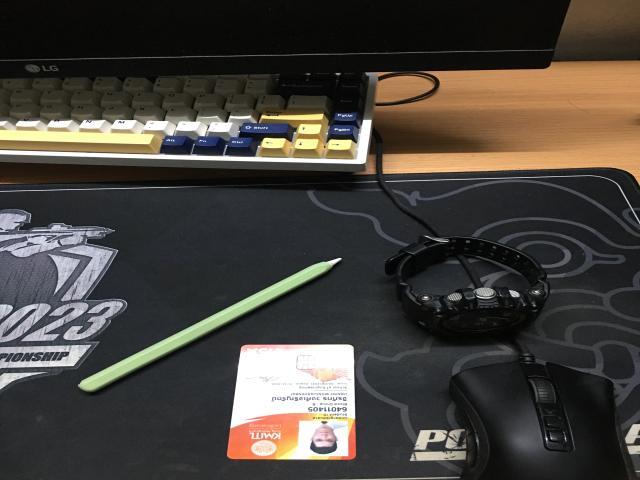Mouse: (450, 354, 633, 480)
Watch: (385, 236, 550, 336)
